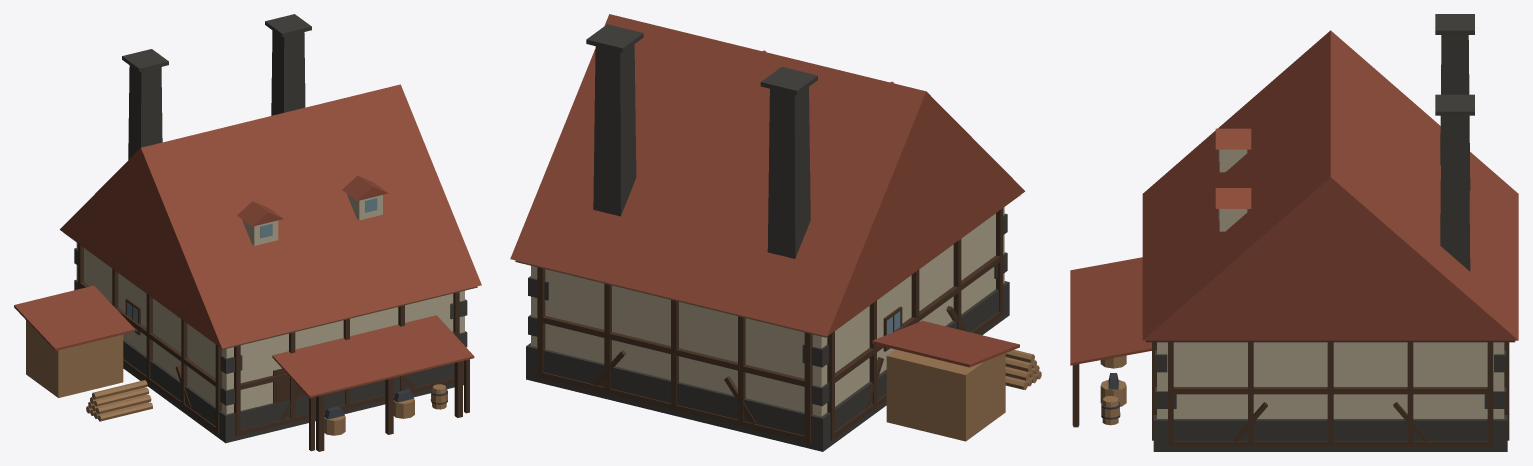
The model's file is forge.glb.
3 renders of one model, left to right at view 1: azimuth 30°, elevation 25°; view 2: azimuth 150°, elevation 25°; view 3: azimuth 270°, elevation 25°, orthographic. The views are drawn at different scales.
Visible parts, largest first — view 1: forge_lod0; view 2: forge_lod0; view 3: forge_lod0.
Part boxes in pixels (x1,y1,x2,y2): forge_lod0: [14, 14, 481, 451]; forge_lod0: [510, 14, 1041, 451]; forge_lod0: [1070, 14, 1518, 451].
Size of what is drawn, in the model's own units: 15.75 by 12.22 by 15.5.
